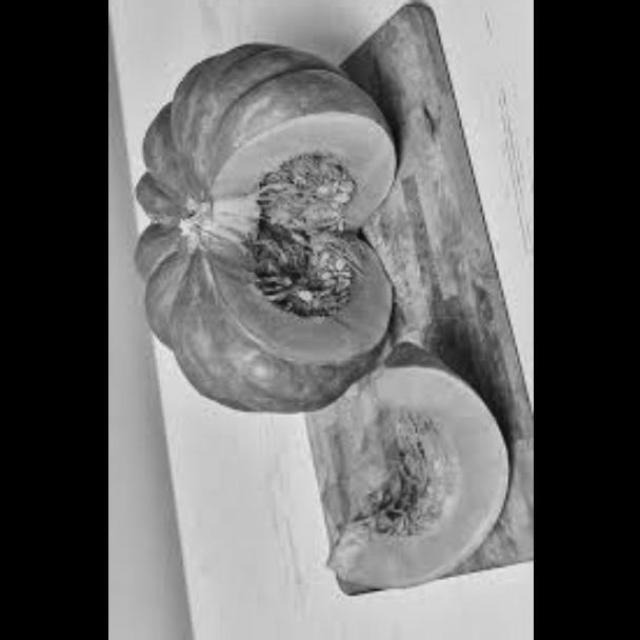pumpkin: (120, 33, 411, 420), (320, 331, 518, 600)
